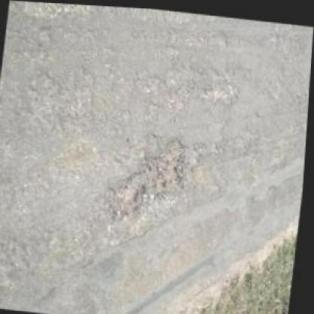Hueco: (108, 127, 190, 222), (204, 76, 241, 104)
